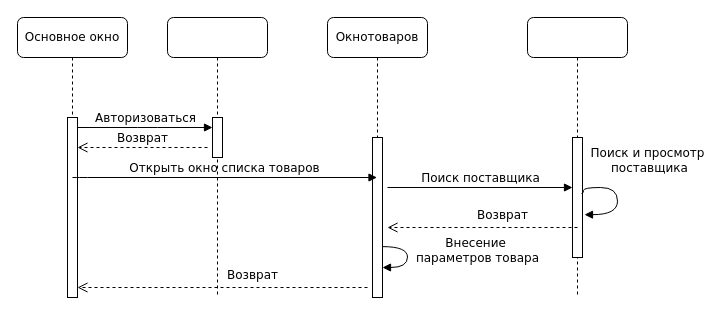
Some shapes in this 722 by 315 pixel diagram are drawn without their labels. The shapes that lost their labels are listed below. From the top down, each one's centre as x and y in pixels, then its label:
At (217,157): "Окно авторизации".
At (577,157): "Окно поставщиков".
